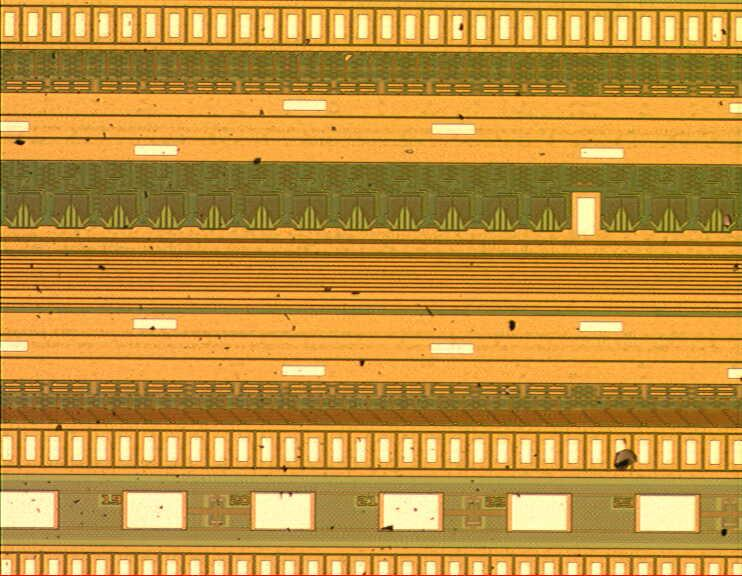PO CONTAMINATION: (2, 21, 742, 576)
